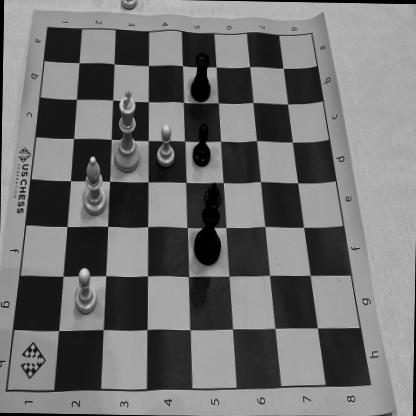black-king: (190, 180, 226, 270)
black-pawn: (191, 123, 211, 171)
black-rook: (188, 50, 212, 104)
white-bishop: (79, 154, 109, 218)
white-king: (114, 88, 142, 175)
white-pawn: (73, 264, 97, 316), (154, 120, 176, 170)
